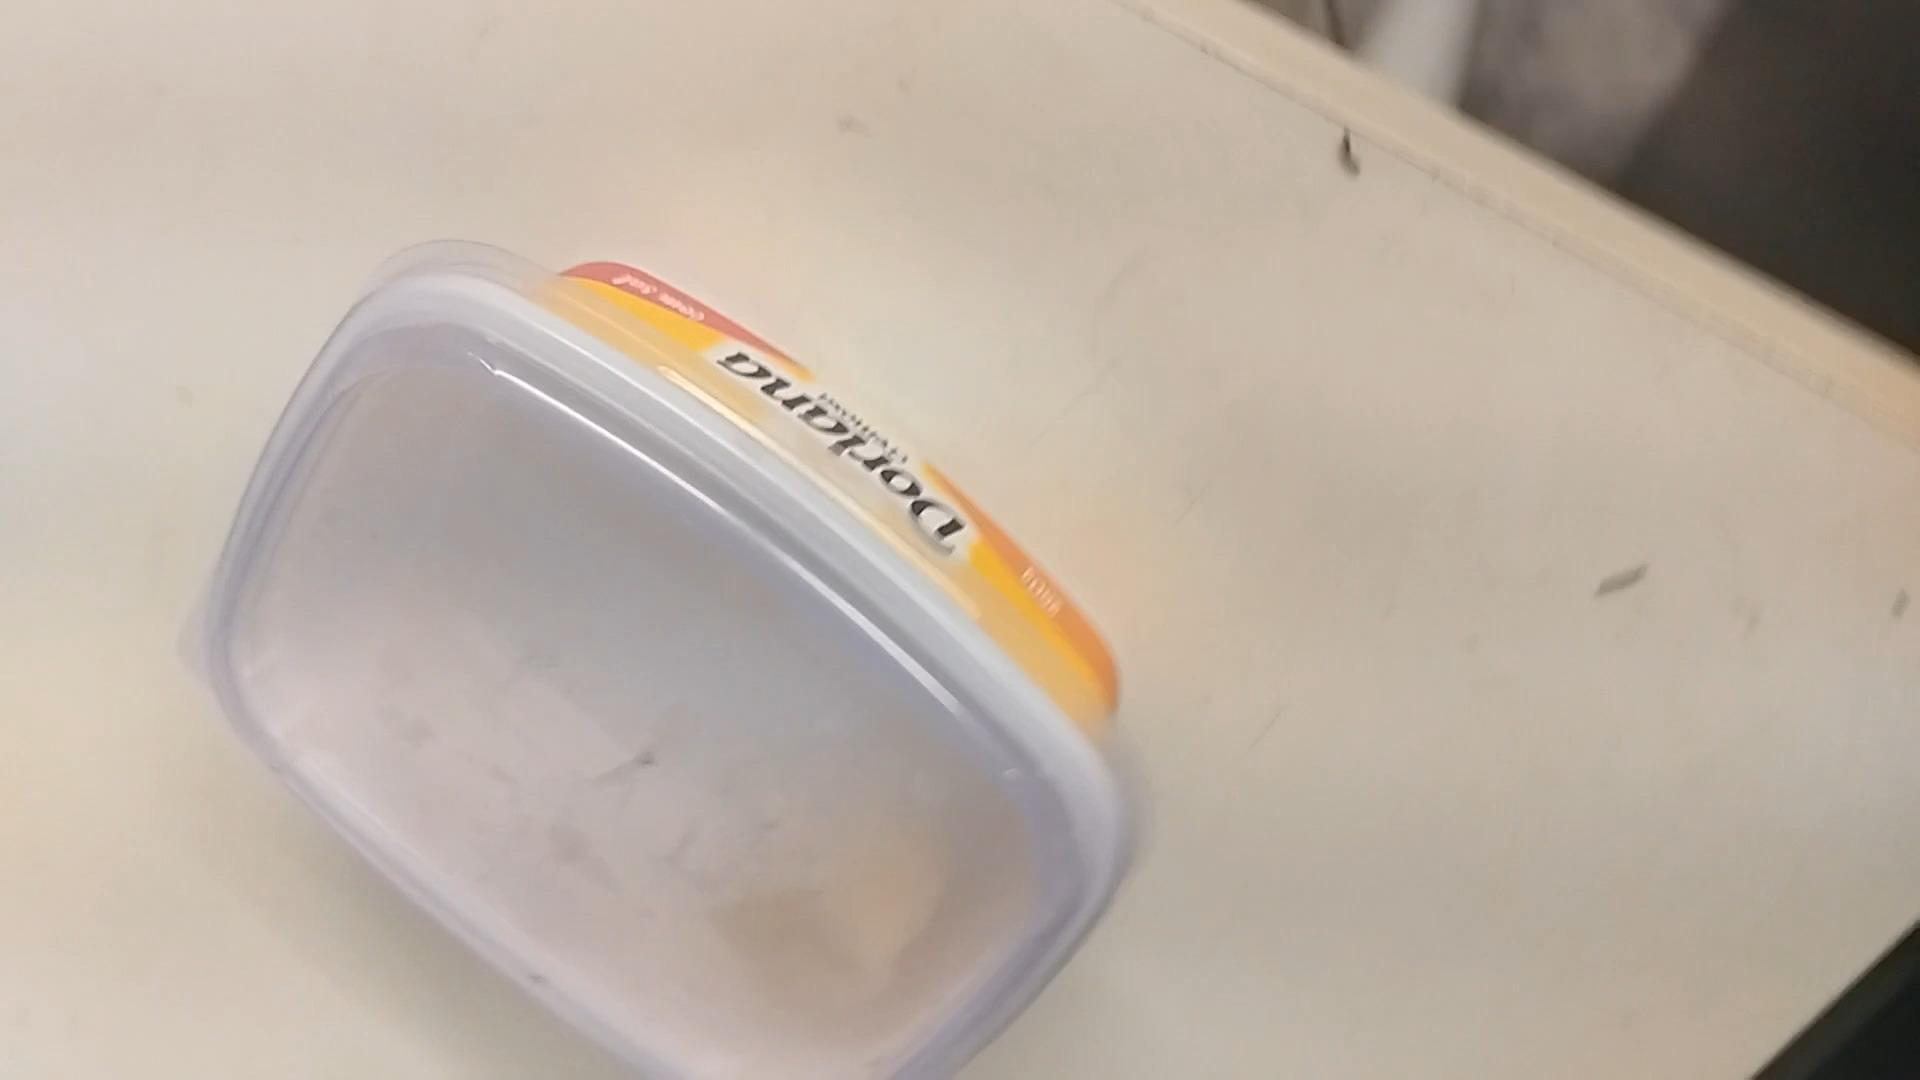butter: (190, 239, 1138, 1080)
